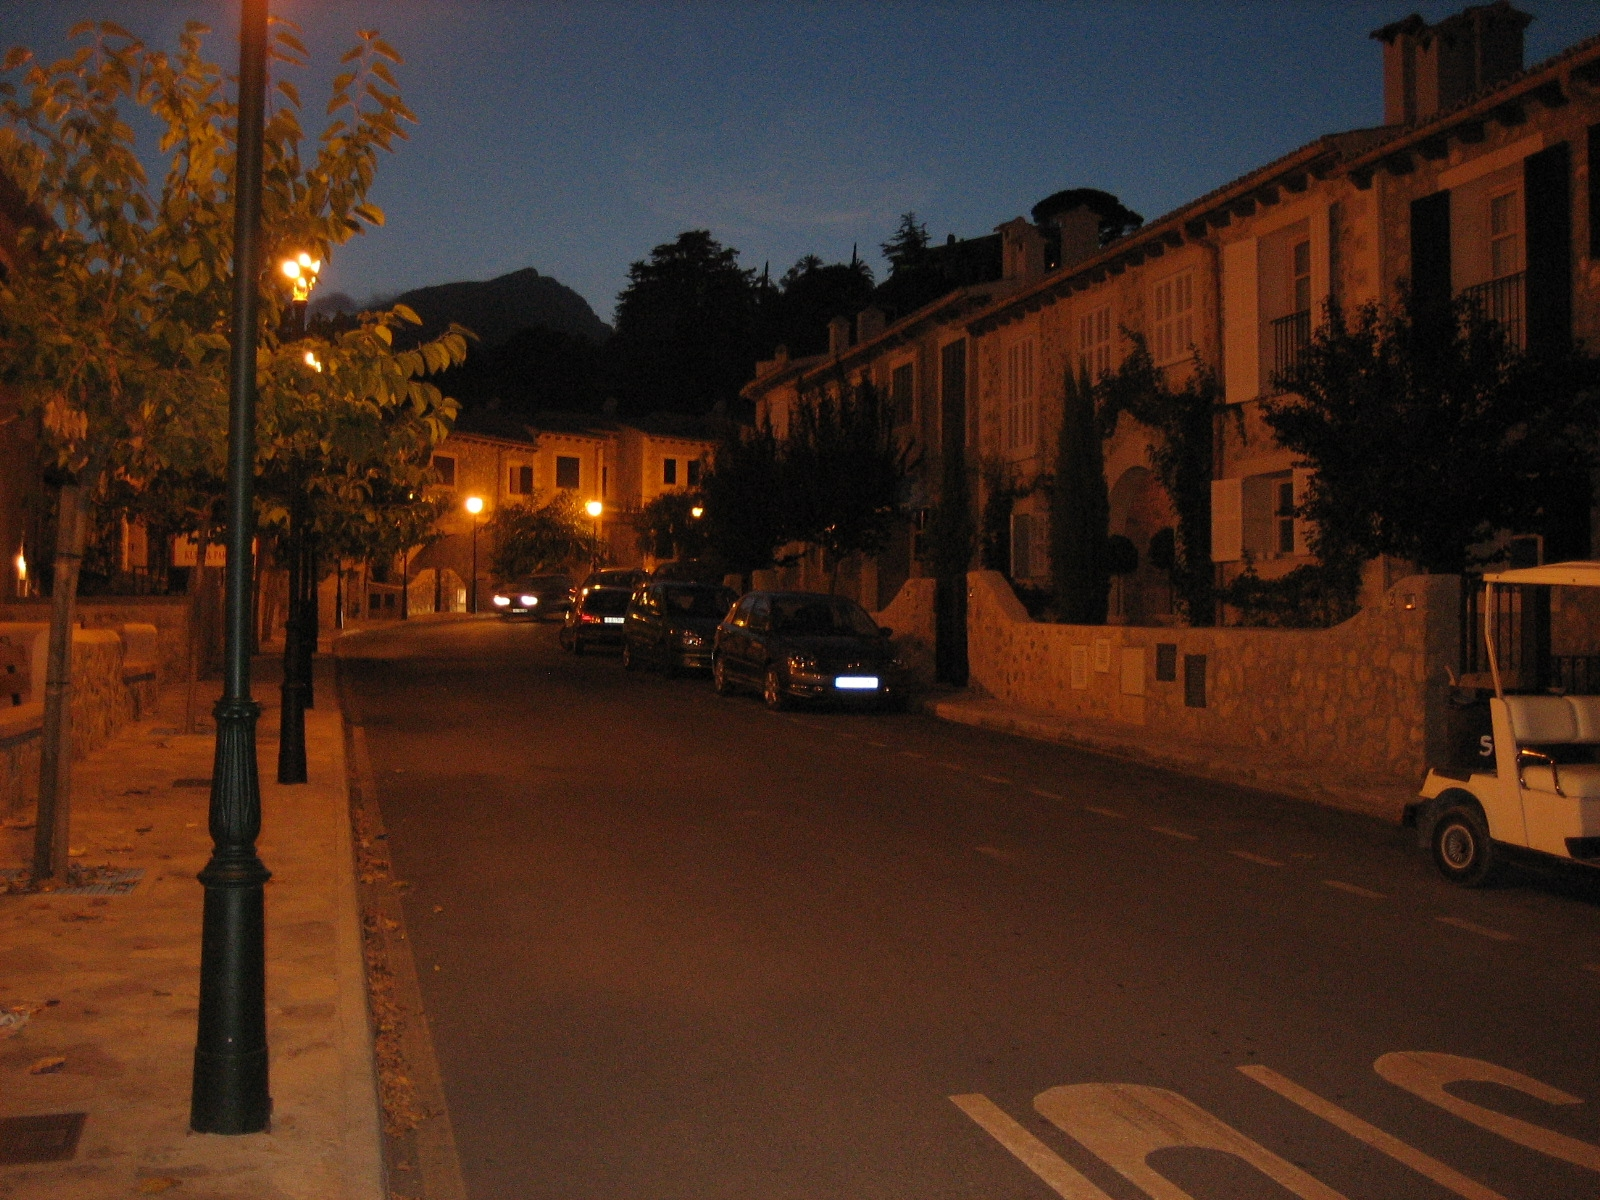car: (485, 563, 585, 626)
